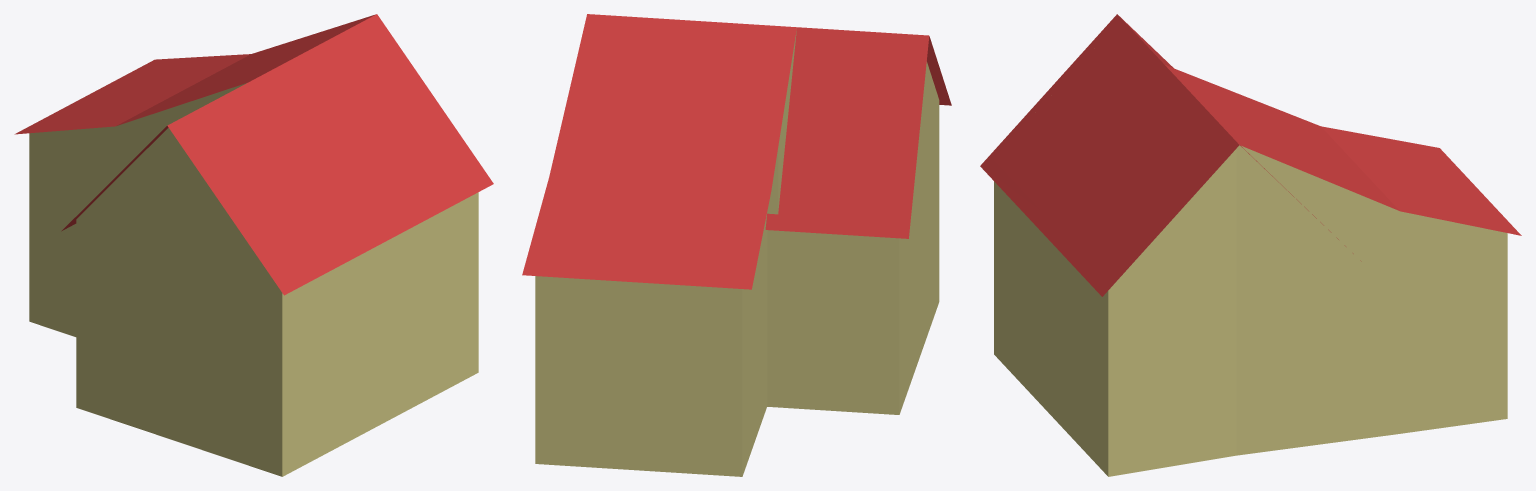
3 renders of one model, left to right at view 1: azimuth 30°, elevation 25°; view 2: azimuth 150°, elevation 25°; view 3: azimuth 270°, elevation 25°, orthographic. The views are drawn at different scales.
Bounding box in the file's own units: 19.25 × 25.23 × 16.17.
